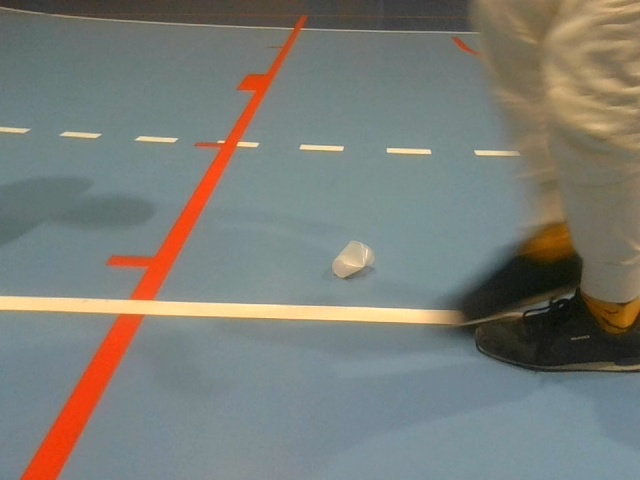plasticcup: (332, 238, 376, 280)
